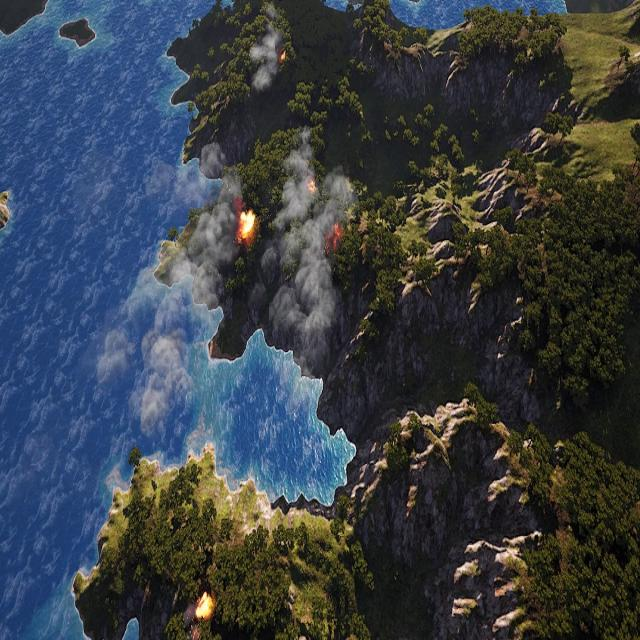fire: (238, 208, 258, 243), (326, 214, 342, 249), (195, 593, 215, 619), (305, 176, 318, 198), (280, 50, 287, 64)
smoke: (92, 140, 238, 434), (249, 129, 354, 397), (252, 22, 285, 95)
